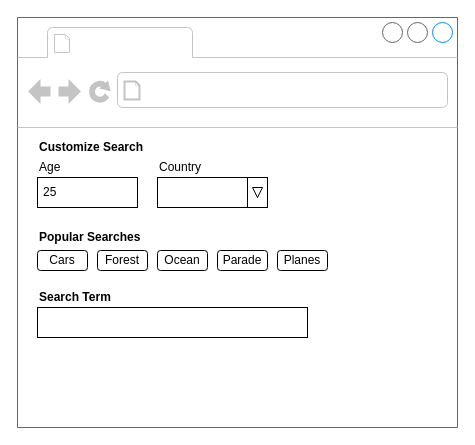
Image size: 475x445. Some labels were removed from this diagram. The box of each missing label's shape, as (x1, y1, x2, y2) in pixels:
boats: (36, 306, 308, 338)
Page 1: (76, 28, 188, 56)
United States: (156, 176, 268, 208)
